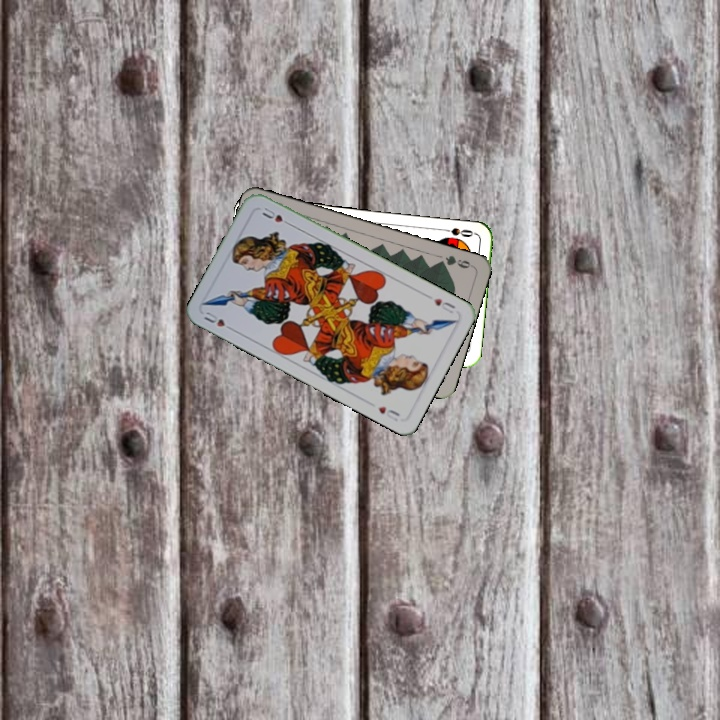G9: (434, 251, 475, 271)
HU: (200, 307, 237, 334), (423, 291, 458, 316)
SO: (437, 223, 477, 240)
